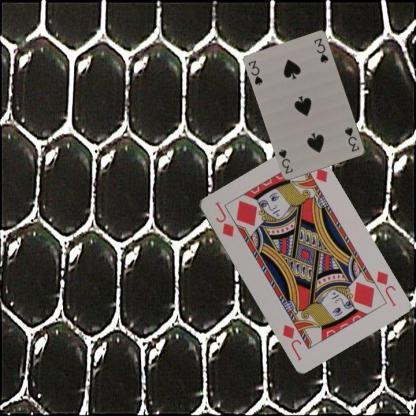3s: (342, 124, 361, 153), (246, 58, 264, 86)
Jd: (373, 268, 398, 308), (212, 198, 235, 239)
